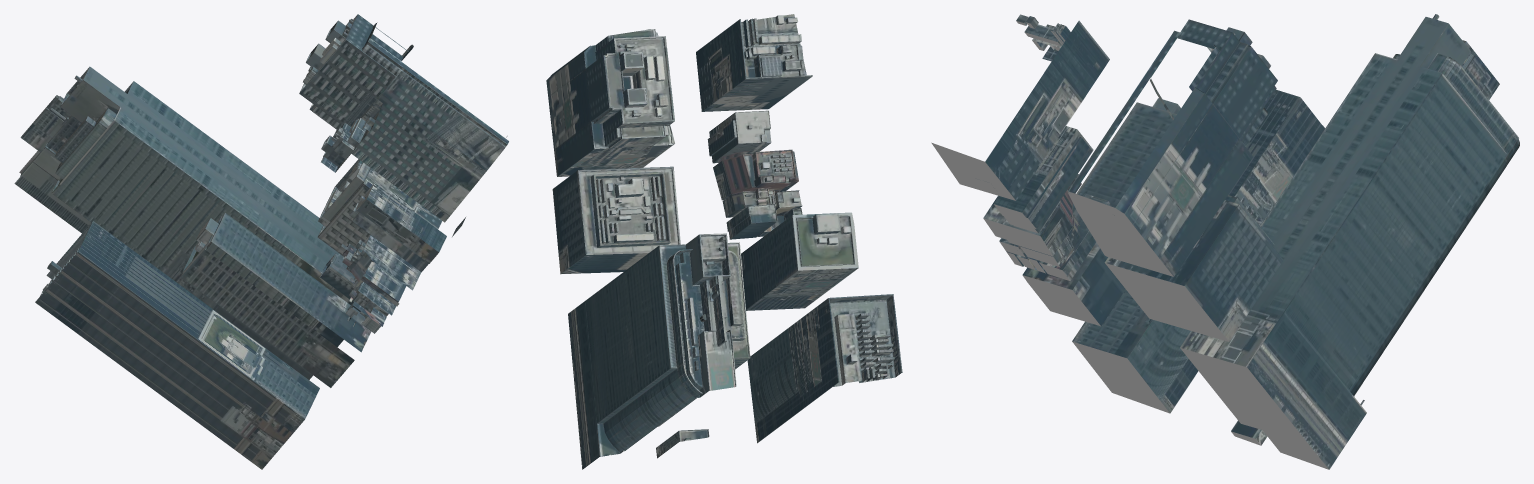
File: 39539_bldg_Building.glb
The picture shows the model from 3 angles, left to right: view 1: azimuth 30°, elevation 25°; view 2: azimuth 150°, elevation 25°; view 3: azimuth 270°, elevation 25°; orthographic projection. The views are drawn at different scales.
Size of the model in its own units: 188 by 166 by 200.
4 materials, 2 textured.
